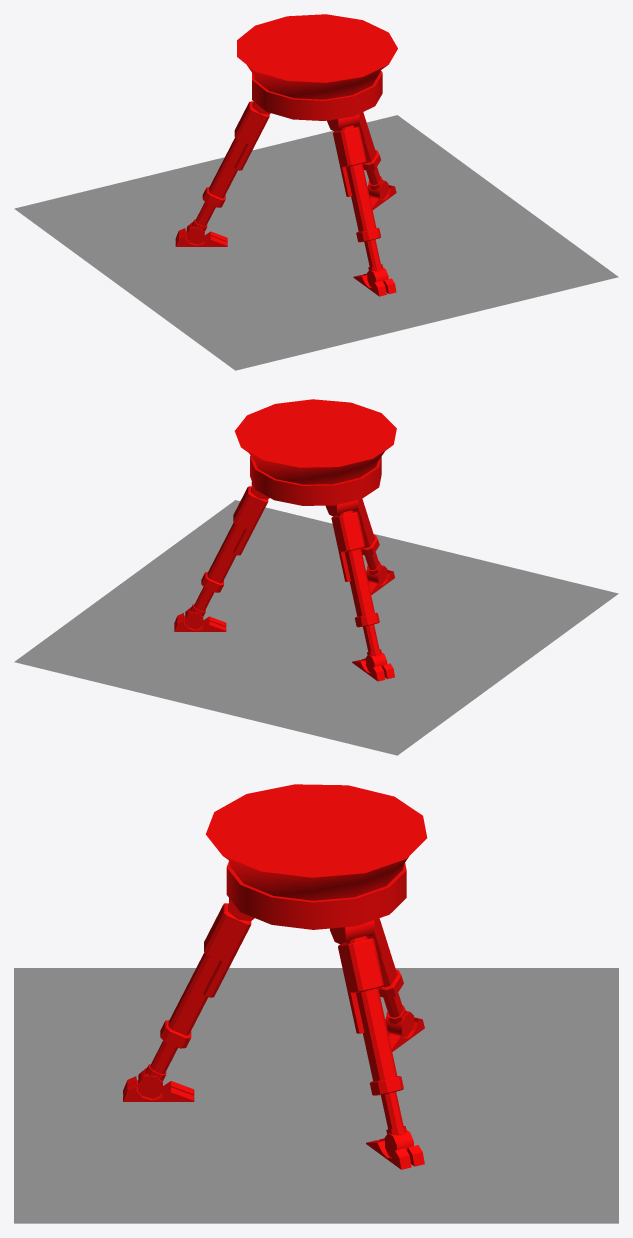
The model's file is Legs01.FBX.
The picture shows the model from 3 angles, top to bottom: view 1: azimuth 30°, elevation 25°; view 2: azimuth 150°, elevation 25°; view 3: azimuth 270°, elevation 25°; orthographic projection. The views are drawn at different scales.
Visible parts, largest first — view 1: Plane, Legs01; view 2: Plane, Legs01; view 3: Plane, Legs01.
Boxes of the visible parts, x1,y1,x2,y2 form: Plane: (14,115,618,370); Legs01: (175,14,397,296); Plane: (14,500,618,755); Legs01: (174,399,396,681); Plane: (14,968,618,1223); Legs01: (123,784,427,1169).
Bounding box in the file's own units: 2000 × 970 × 2000.
